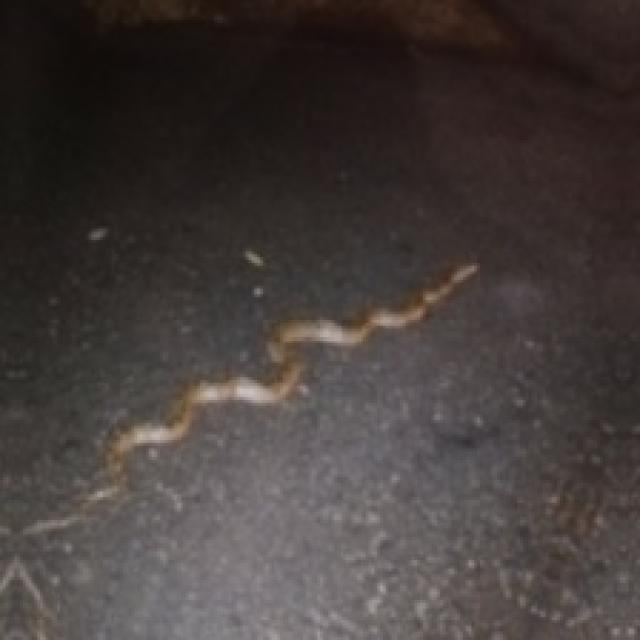reticulated python: (17, 263, 477, 537), (83, 263, 477, 506)
